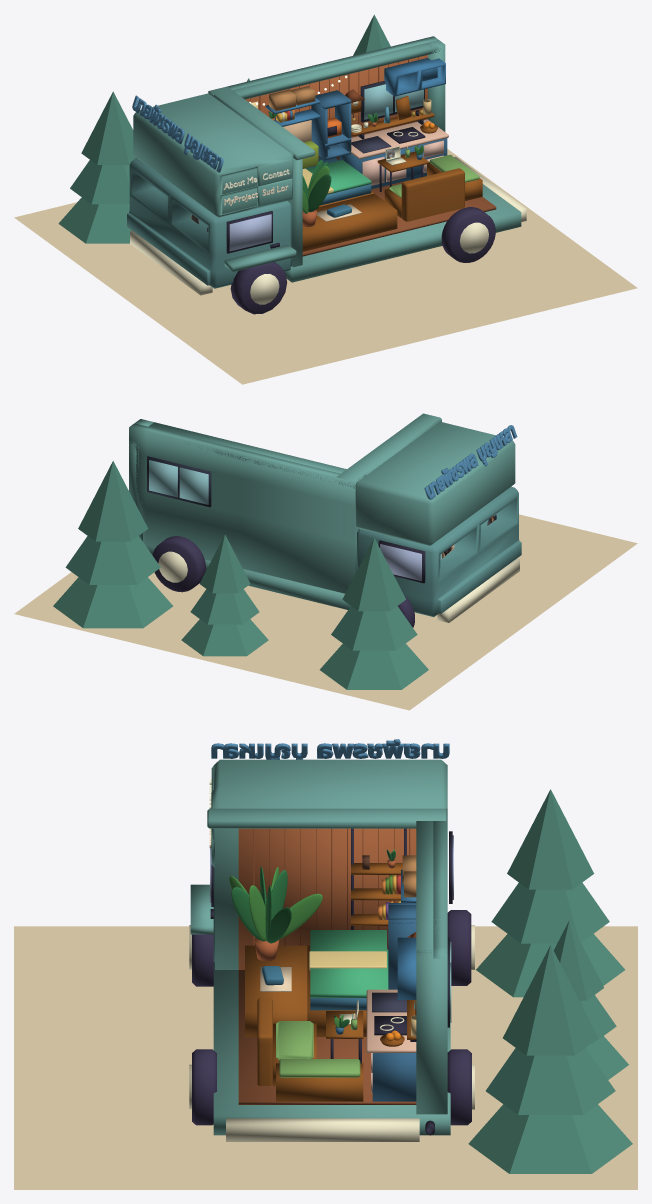
Rendered from Van10_10_meKey.glb.
The picture shows the model from 3 angles, top to bottom: view 1: azimuth 30°, elevation 25°; view 2: azimuth 150°, elevation 25°; view 3: azimuth 270°, elevation 25°; orthographic projection. The views are drawn at different scales.
Visible parts, largest first — view 1: Luton.198, Ground, Tree.003, Luton.050, Text, Luton.046, Tree.002, Luton.051, Luton.047; view 2: Luton.198, Ground, Tree.002, Tree.003, Tree.006, Luton.052, Text, Luton.053; view 3: Luton.198, Ground, Tree.002, Tree.003, Tree.006, Text, Luton.050, Luton.052, Luton.038, Luton.046.
Boxes of the visible parts, x1=… form: Luton.198: x1=127, y1=36, x2=526, y2=295; Ground: x1=14, y1=149, x2=637, y2=384; Tree.003: x1=58, y1=91, x2=136, y2=243; Luton.050: x1=441, y1=207, x2=495, y2=262; Text: x1=132, y1=95, x2=223, y2=172; Luton.046: x1=230, y1=262, x2=287, y2=314; Tree.002: x1=353, y1=14, x2=390, y2=55; Luton.051: x1=459, y1=222, x2=488, y2=253; Luton.047: x1=250, y1=274, x2=279, y2=304; Luton.198: x1=129, y1=413, x2=521, y2=622; Ground: x1=14, y1=514, x2=637, y2=710; Tree.002: x1=53, y1=461, x2=172, y2=628; Tree.003: x1=320, y1=537, x2=428, y2=689; Tree.006: x1=181, y1=534, x2=268, y2=656; Luton.052: x1=152, y1=536, x2=205, y2=592; Text: x1=424, y1=425, x2=517, y2=499; Luton.053: x1=158, y1=551, x2=187, y2=582; Luton.198: x1=190, y1=759, x2=453, y2=1141; Ground: x1=14, y1=926, x2=637, y2=1189; Tree.002: x1=468, y1=945, x2=632, y2=1173; Tree.003: x1=476, y1=789, x2=624, y2=997; Tree.006: x1=553, y1=920, x2=628, y2=1079; Text: x1=211, y1=739, x2=449, y2=759; Luton.050: x1=192, y1=1049, x2=216, y2=1125; Luton.052: x1=447, y1=1049, x2=471, y2=1125; Luton.038: x1=447, y1=910, x2=471, y2=985; Luton.046: x1=192, y1=934, x2=214, y2=986.
Bounding box in the file's own units: 10 × 3.95 × 10.
Materials: 54 (4 with a texture image).
